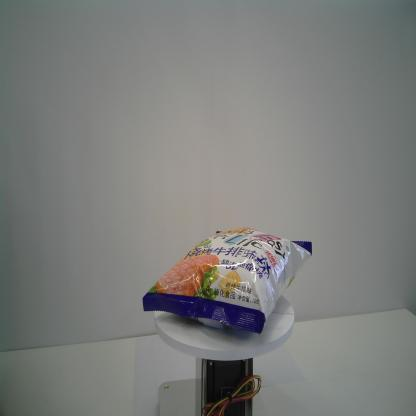Puffed Food: (140, 225, 313, 335)
